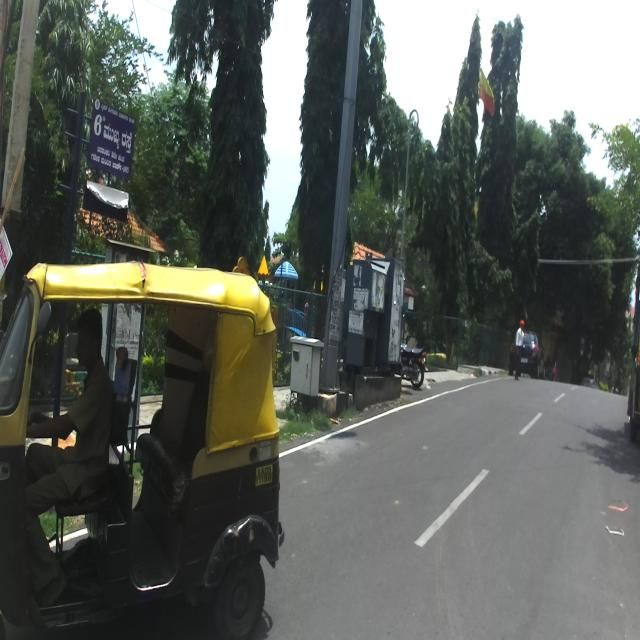auto ahead at: (0, 259, 287, 640)
